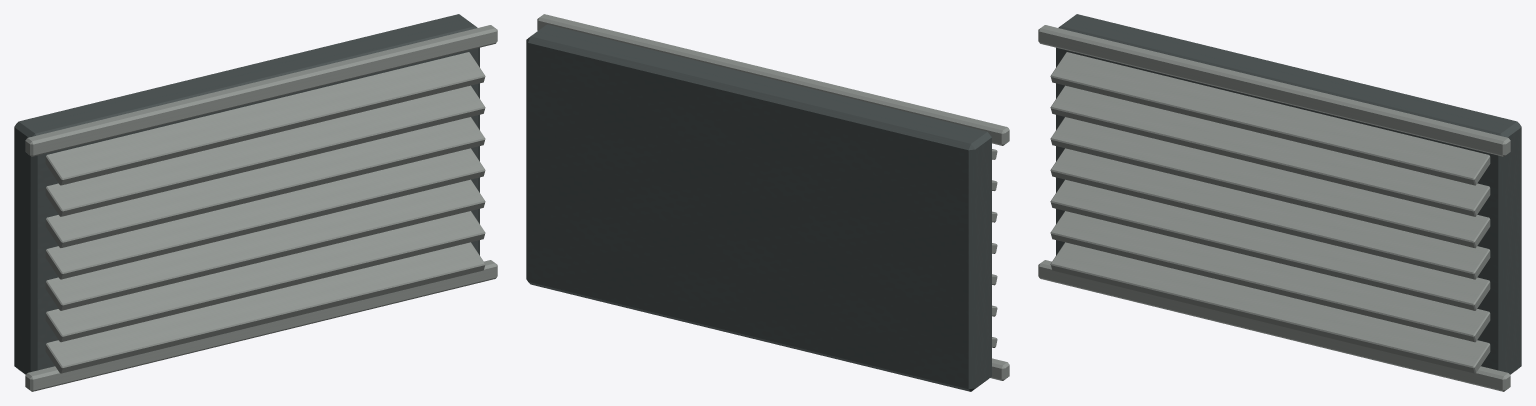
File: D_Vent_Wide_visual.glb
The picture shows the model from 3 angles, left to right: view 1: azimuth 30°, elevation 25°; view 2: azimuth 150°, elevation 25°; view 3: azimuth 330°, elevation 25°; orthographic projection.
Parts seen in each view (by area): view 1: D_Vent_Wide__VIS; view 2: D_Vent_Wide__VIS; view 3: D_Vent_Wide__VIS.
Boxes of the visible parts, x1,y1,x2,y2 form: D_Vent_Wide__VIS: [14, 14, 497, 391]; D_Vent_Wide__VIS: [526, 14, 1009, 391]; D_Vent_Wide__VIS: [1038, 14, 1521, 391].
Size of the model in its own units: 3.75 by 1.92 by 0.5225.
1 material, 1 textured.
